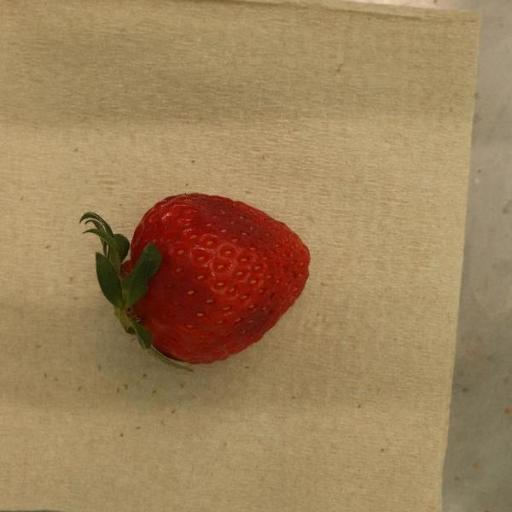Strawberry: (79, 193, 310, 364)
